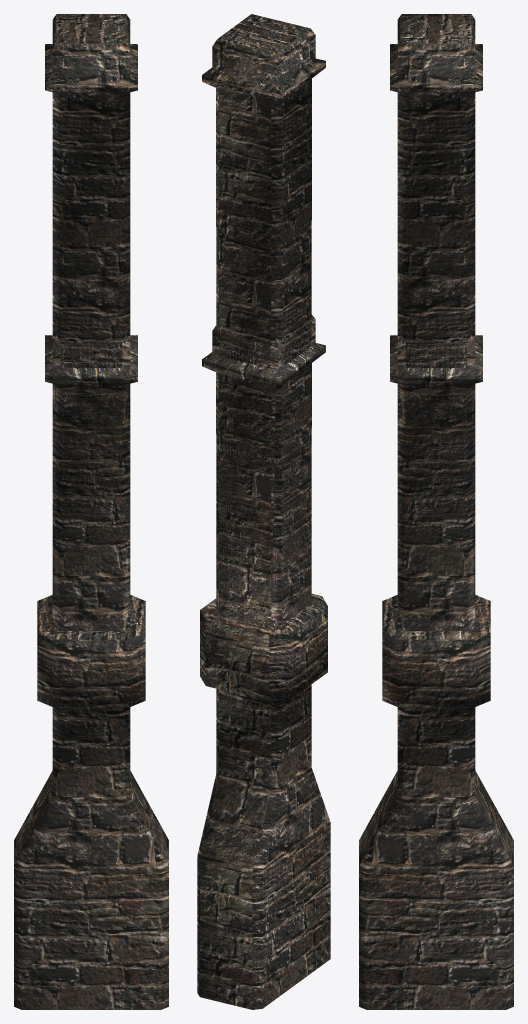
File: FirePlaces.fbx
3 renders of one model, left to right at view 1: azimuth 90°, elevation 25°; view 2: azimuth 150°, elevation 25°; view 3: azimuth 270°, elevation 25°, orthographic. The views are drawn at different scales.
Visible parts, largest first — view 1: Fire_Place_B_Base, Fire_Place_Long_TopB, Fire_Place_A_Top, Fire_Place; view 2: Fire_Place_Long_TopB, Fire_Place_B_Base, Fire_Place, Fire_Place_A_Top; view 3: Fire_Place_B_Base, Fire_Place_Long_TopB, Fire_Place_A_Top, Fire_Place.
Boxes of the visible parts, left/top/right/bottom form: Fire_Place_B_Base: left=14, top=595, right=168, bottom=1009; Fire_Place_Long_TopB: left=45, top=14, right=137, bottom=630; Fire_Place_A_Top: left=45, top=335, right=137, bottom=630; Fire_Place: left=37, top=335, right=145, bottom=794; Fire_Place_Long_TopB: left=202, top=14, right=325, bottom=622; Fire_Place_B_Base: left=197, top=595, right=330, bottom=1009; Fire_Place: left=201, top=317, right=327, bottom=781; Fire_Place_A_Top: left=202, top=314, right=325, bottom=625; Fire_Place_B_Base: left=359, top=595, right=513, bottom=1009; Fire_Place_Long_TopB: left=390, top=14, right=482, bottom=630; Fire_Place_A_Top: left=390, top=335, right=482, bottom=630; Fire_Place: left=382, top=335, right=490, bottom=794.
Size of the model in its own units: 140 by 1375 by 200.
